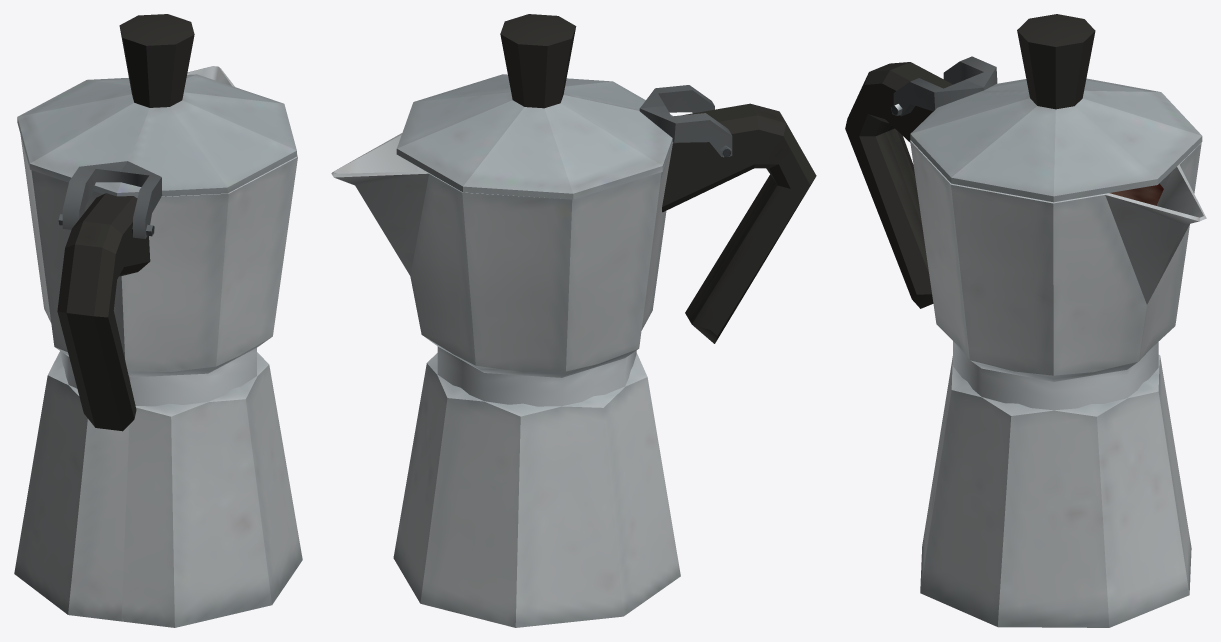
Rendered from moka.glb.
3 renders of one model, left to right at view 1: azimuth 30°, elevation 25°; view 2: azimuth 150°, elevation 25°; view 3: azimuth 270°, elevation 25°, orthographic.
Parts seen in each view (by area): view 1: Moka_Kettle, Moka_Lid; view 2: Moka_Kettle, Moka_Lid; view 3: Moka_Kettle, Moka_Lid.
Boxes of the visible parts, left/top/right/bottom form: Moka_Kettle: left=14, top=66, right=302, bottom=627; Moka_Lid: left=17, top=14, right=296, bottom=238; Moka_Kettle: left=331, top=103, right=816, bottom=627; Moka_Lid: left=396, top=14, right=732, bottom=199; Moka_Kettle: left=845, top=62, right=1206, bottom=627; Moka_Lid: left=891, top=14, right=1202, bottom=202.
Bounding box in the file's own units: 0.3783 × 0.6094 × 0.3673.
Materials: 1 (1 with a texture image).
